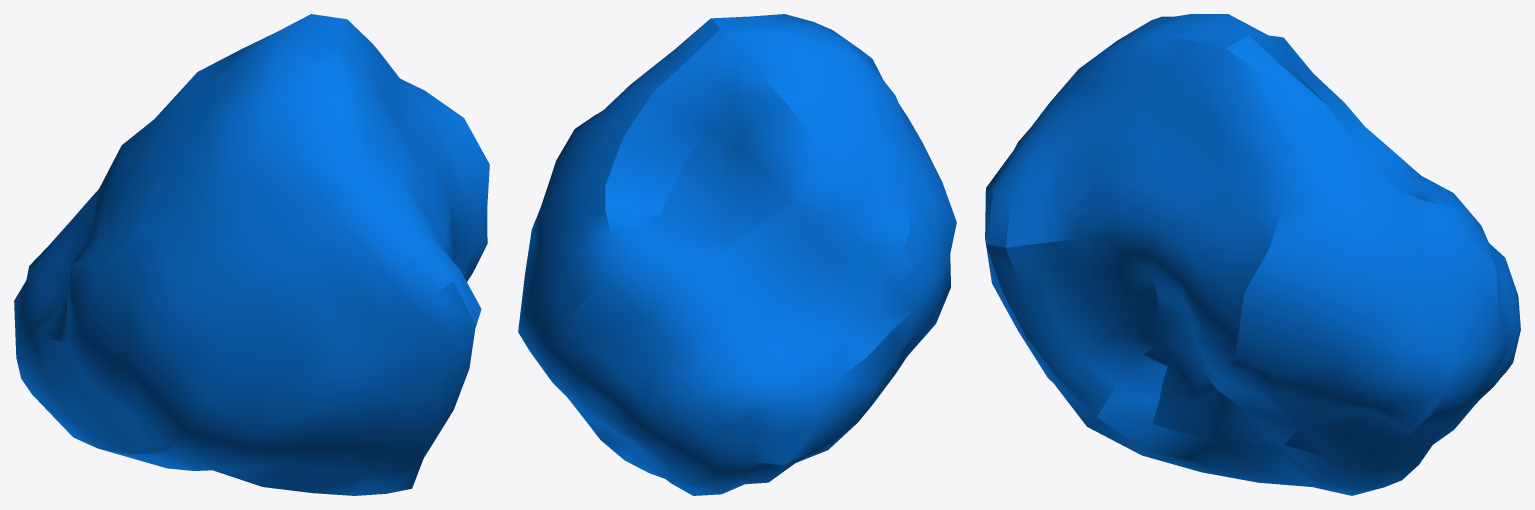
The model's file is Asteroid04_L_a.fbx.
The picture shows the model from 3 angles, left to right: view 1: azimuth 30°, elevation 25°; view 2: azimuth 150°, elevation 25°; view 3: azimuth 270°, elevation 25°; orthographic projection. The views are drawn at different scales.
Parts seen in each view (by area): view 1: Asteroid04a_LOD0; view 2: Asteroid04a_LOD0; view 3: Asteroid04a_LOD0.
Part boxes in pixels (x1=…): Asteroid04a_LOD0: x1=14, y1=14, x2=489, y2=495; Asteroid04a_LOD0: x1=518, y1=14, x2=956, y2=495; Asteroid04a_LOD0: x1=985, y1=14, x2=1520, y2=495.
Size of what is drawn, in the model's own units: 1.47 by 1.61 by 1.75.
